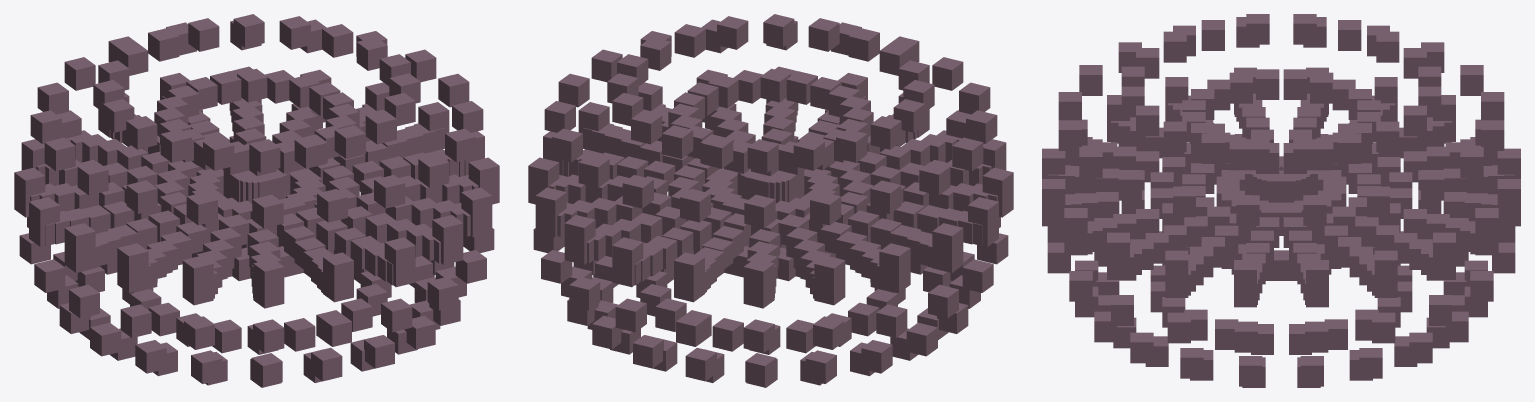
The picture shows the model from 3 angles, left to right: view 1: azimuth 30°, elevation 25°; view 2: azimuth 150°, elevation 25°; view 3: azimuth 270°, elevation 25°; orthographic projection.
Visible parts, largest first — view 1: Cube_Clone__303, Cube_Clone__313, Cube_Clone__314, Cube_Clone__70, Cube_Clone__133, Cube_Clone__254, Cube_Clone__302, Cube_Clone__312, Cube_Clone__169, Cube_Clone__173, Cube_Clone__175, Cube_Clone__130 (+134 smaller); view 2: Cube_Clone__306, Cube_Clone__315, Cube_Clone__316, Cube_Clone__79, Cube_Clone__136, Cube_Clone__255, Cube_Clone__307, Cube_Clone__317, Cube_Clone__160, Cube_Clone__174, Cube_Clone__176, Cube_Clone__135 (+139 smaller); view 3: Cube_Clone__122, Cube_Clone__127, Cube_Clone__304, Cube_Clone__305, Cube_Clone__164, Cube_Clone__165, Cube_Clone__312, Cube_Clone__317, Cube_Clone__163, Cube_Clone__166, Cube_Clone__301, Cube_Clone__302 (+141 smaller).
Part boxes in pixels (x1,y1,x2,y2): Cube_Clone__303: [322, 24, 353, 57]; Cube_Clone__313: [160, 129, 191, 162]; Cube_Clone__314: [126, 116, 157, 149]; Cube_Clone__70: [284, 318, 315, 351]; Cube_Clone__133: [135, 340, 166, 373]; Cube_Clone__254: [77, 161, 108, 195]; Cube_Clone__302: [279, 16, 310, 49]; Cube_Clone__312: [203, 137, 234, 170]; Cube_Clone__169: [381, 298, 412, 332]; Cube_Clone__173: [120, 304, 151, 337]; Cube_Clone__175: [34, 259, 65, 292]; Cube_Clone__130: [311, 347, 342, 381]; Cube_Clone__306: [674, 24, 705, 57]; Cube_Clone__315: [870, 116, 901, 149]; Cube_Clone__316: [836, 129, 867, 162]; Cube_Clone__79: [712, 318, 743, 351]; Cube_Clone__136: [861, 340, 892, 373]; Cube_Clone__255: [919, 161, 950, 195]; Cube_Clone__307: [717, 16, 748, 49]; Cube_Clone__317: [793, 137, 824, 170]; Cube_Clone__160: [615, 298, 646, 332]; Cube_Clone__174: [962, 259, 993, 292]; Cube_Clone__176: [876, 304, 907, 337]; Cube_Clone__135: [906, 322, 937, 356]; Cube_Clone__122: [1409, 332, 1432, 363]; Cube_Clone__127: [1130, 332, 1153, 363]; Cube_Clone__304: [1293, 139, 1316, 170]; Cube_Clone__305: [1246, 139, 1269, 170]; Cube_Clone__164: [1305, 321, 1328, 352]; Cube_Clone__165: [1234, 321, 1257, 352]; Cube_Clone__312: [1163, 31, 1186, 62]; Cube_Clone__317: [1376, 31, 1399, 62]; Cube_Clone__163: [1372, 312, 1395, 343]; Cube_Clone__166: [1167, 312, 1190, 343]; Cube_Clone__301: [1403, 105, 1426, 136]; Cube_Clone__302: [1376, 121, 1399, 152].
Size of the model in its own units: 2.07 by 1.09 by 2.07.
